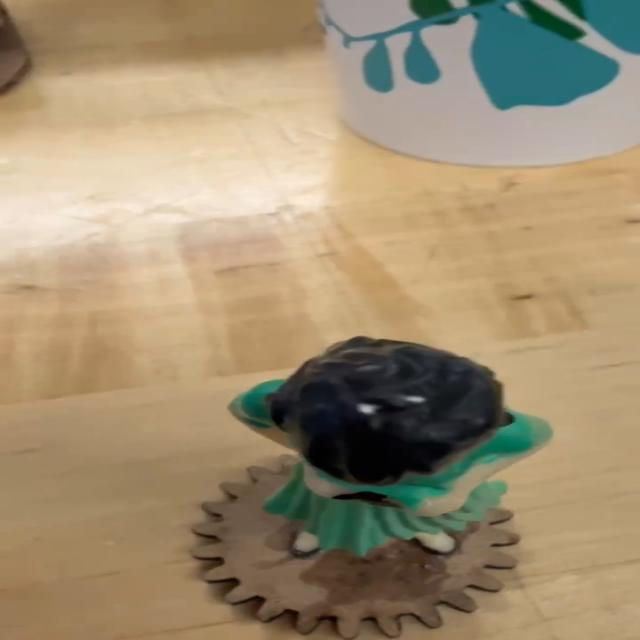Authorized: (171, 321, 583, 638)
